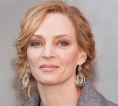female: (23, 10, 87, 89)
